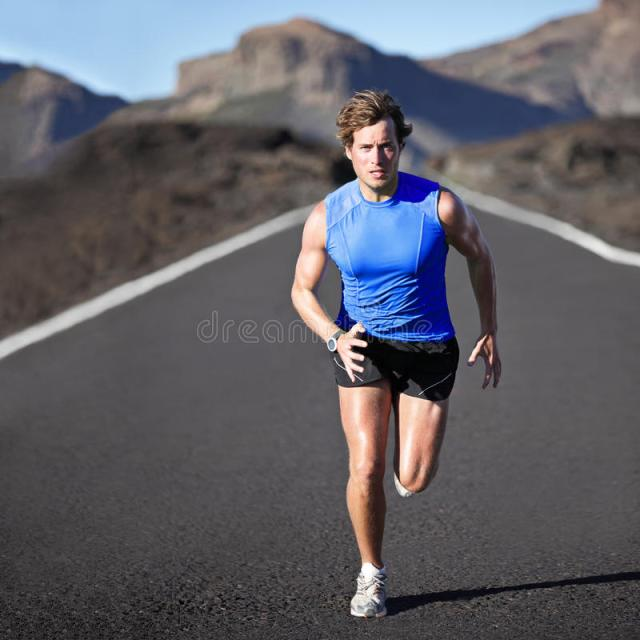running: (292, 85, 507, 619)
